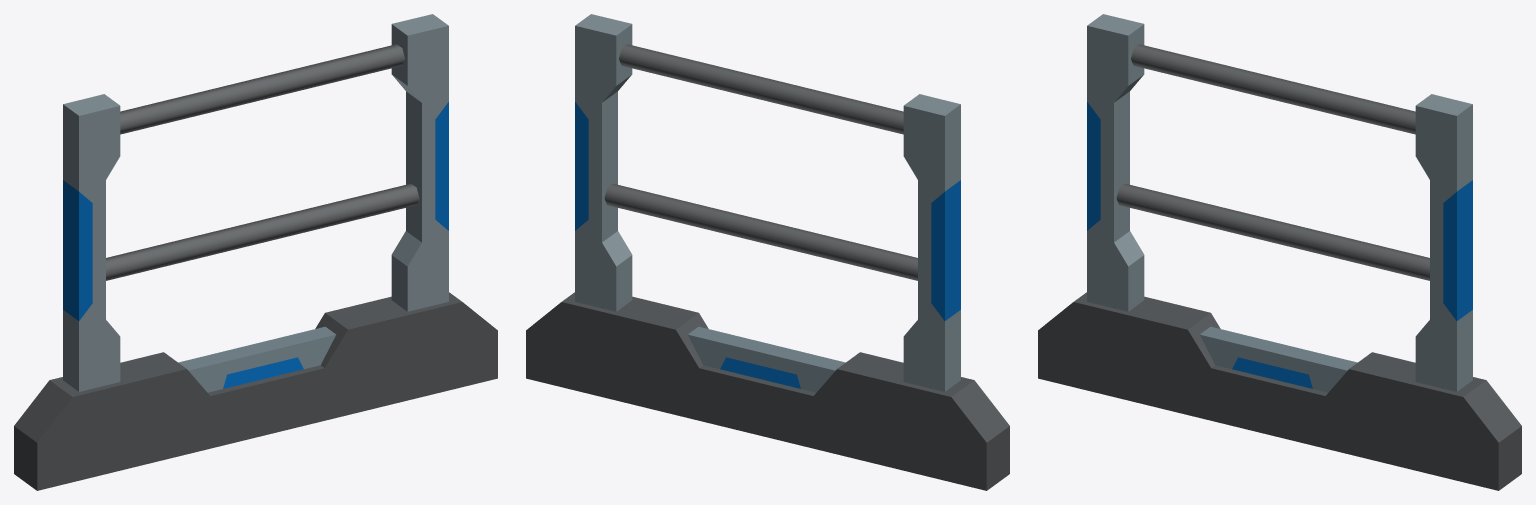
Rendered from Fence_type_B_008.fbx.
The picture shows the model from 3 angles, left to right: view 1: azimuth 30°, elevation 25°; view 2: azimuth 150°, elevation 25°; view 3: azimuth 330°, elevation 25°; orthographic projection.
Parts seen in each view (by area): view 1: Fence_type_B_008; view 2: Fence_type_B_008; view 3: Fence_type_B_008.
Boxes of the visible parts, left/top/right/bottom form: Fence_type_B_008: left=14, top=14, right=497, bottom=490; Fence_type_B_008: left=526, top=14, right=1009, bottom=490; Fence_type_B_008: left=1038, top=14, right=1521, bottom=490.
Bounding box in the file's own units: 190 × 16.53 × 142.
